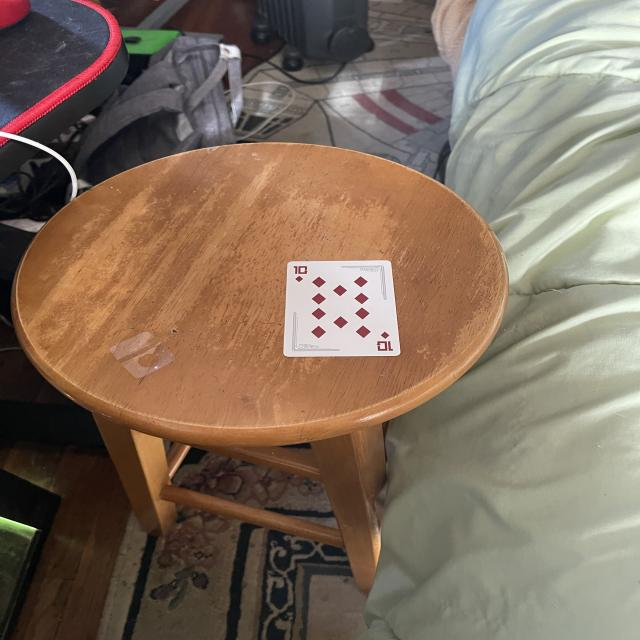10 of diamonds: (284, 262, 401, 356)
